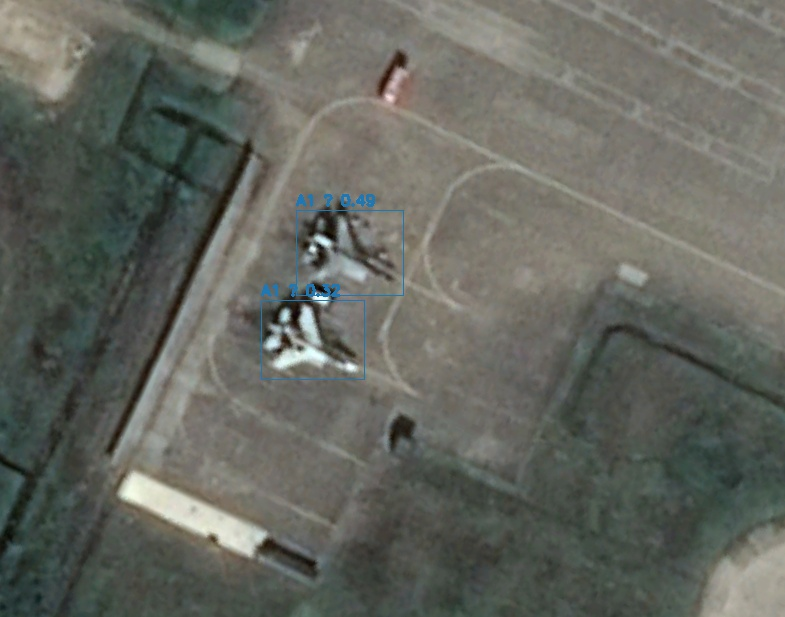A1: (296, 210, 403, 295), (261, 300, 364, 379)
